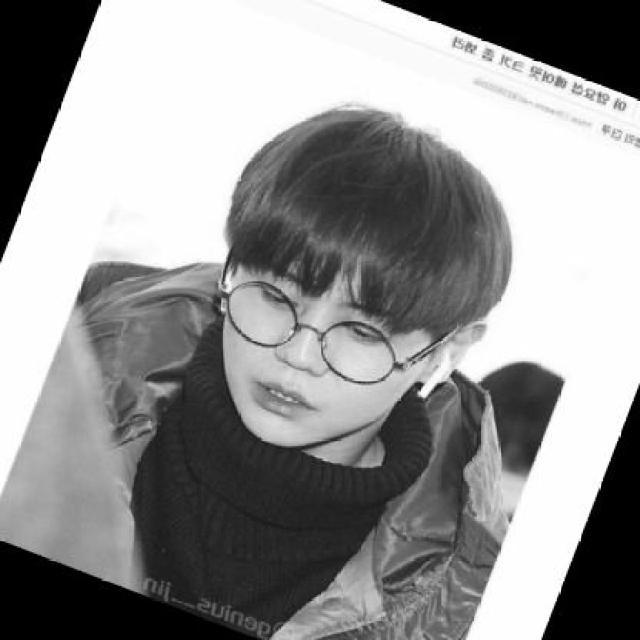earphone: (414, 336, 462, 406), (216, 252, 242, 311)
